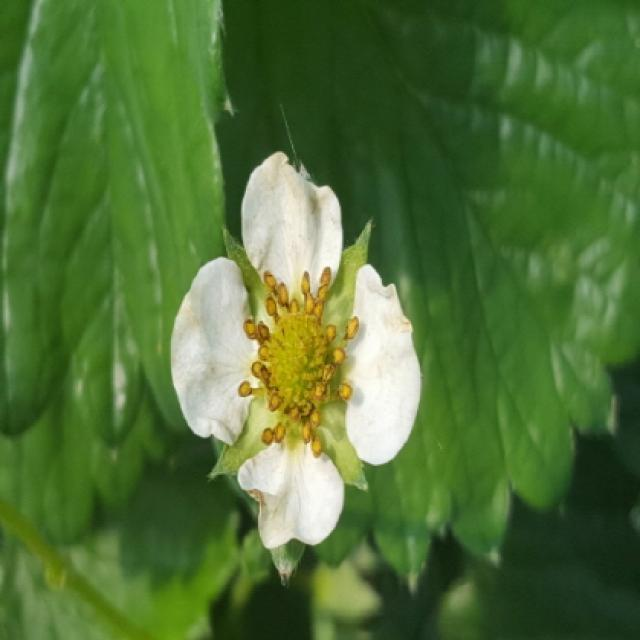Blossom Blight: (231, 263, 364, 460)
